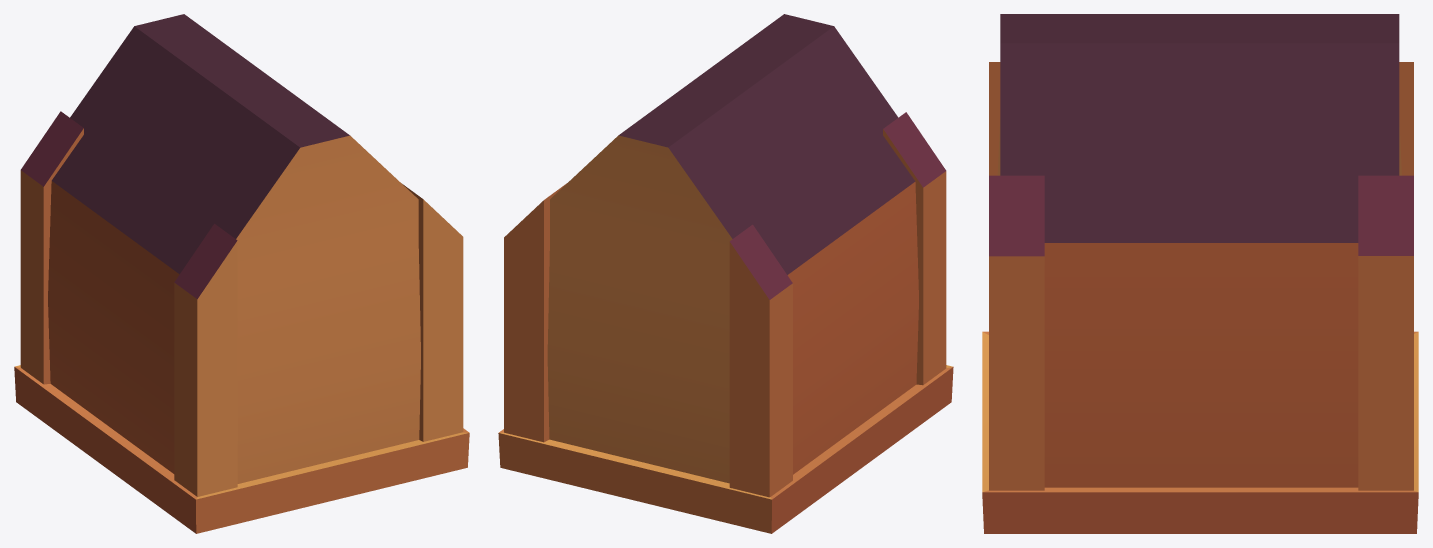
Rendered from House02_Orange_Wood.glb.
The picture shows the model from 3 angles, left to right: view 1: azimuth 30°, elevation 25°; view 2: azimuth 150°, elevation 25°; view 3: azimuth 270°, elevation 25°; orthographic projection. The views are drawn at different scales.
Visible parts, largest first — view 1: House02_Orange_Wood; view 2: House02_Orange_Wood; view 3: House02_Orange_Wood.
Part boxes in pixels (box(x1,y1,x2,y2)): House02_Orange_Wood: box(14, 14, 469, 533); House02_Orange_Wood: box(498, 14, 953, 533); House02_Orange_Wood: box(982, 14, 1418, 533).
Bounding box in the file's own units: 2.04 × 2.52 × 2.34.
1 material, 1 textured.
